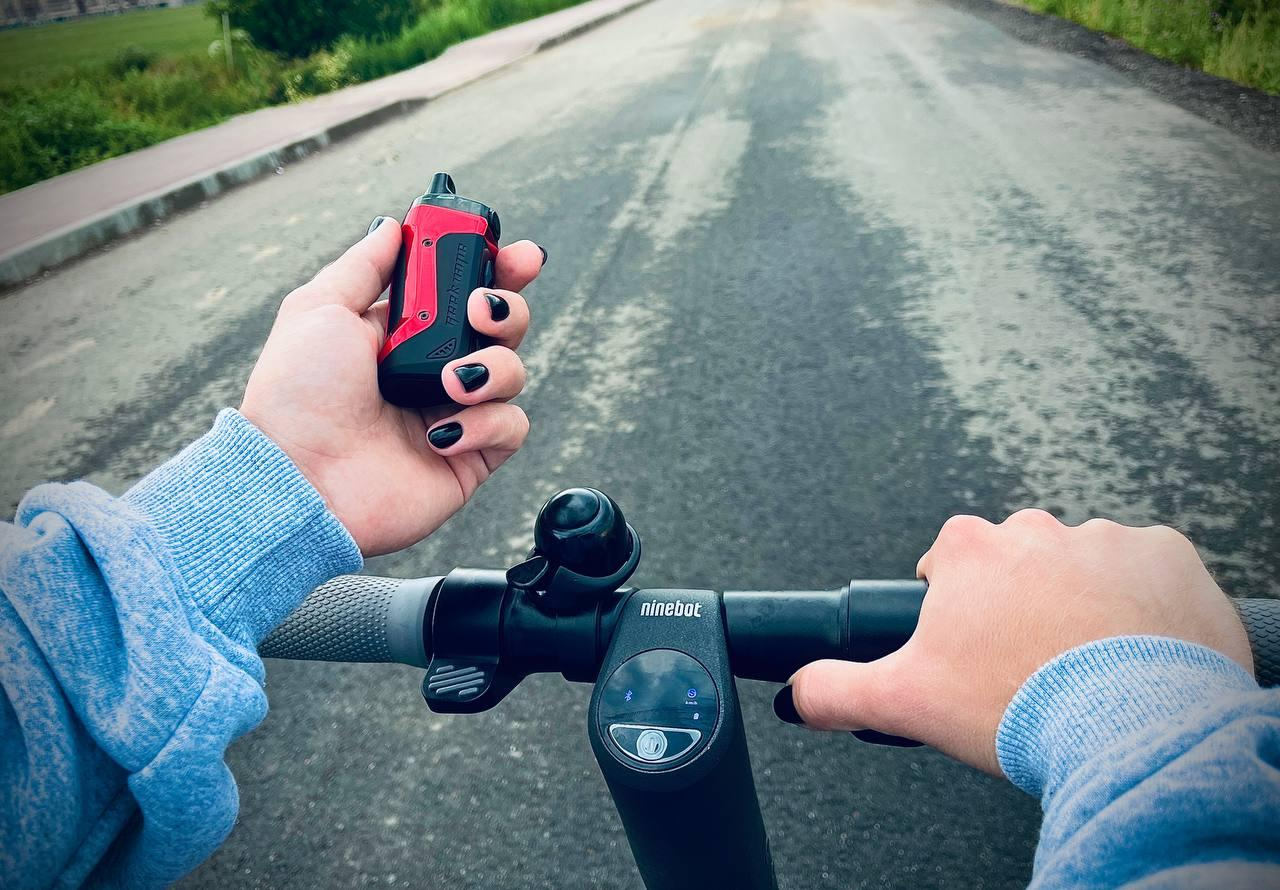Vape: (378, 171, 499, 405)
